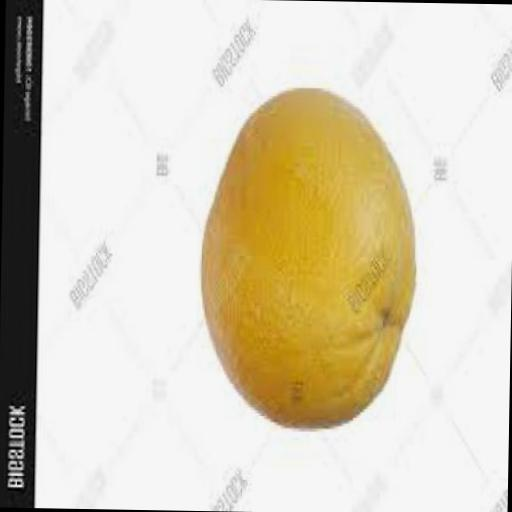biodegradable: (200, 86, 418, 437)
